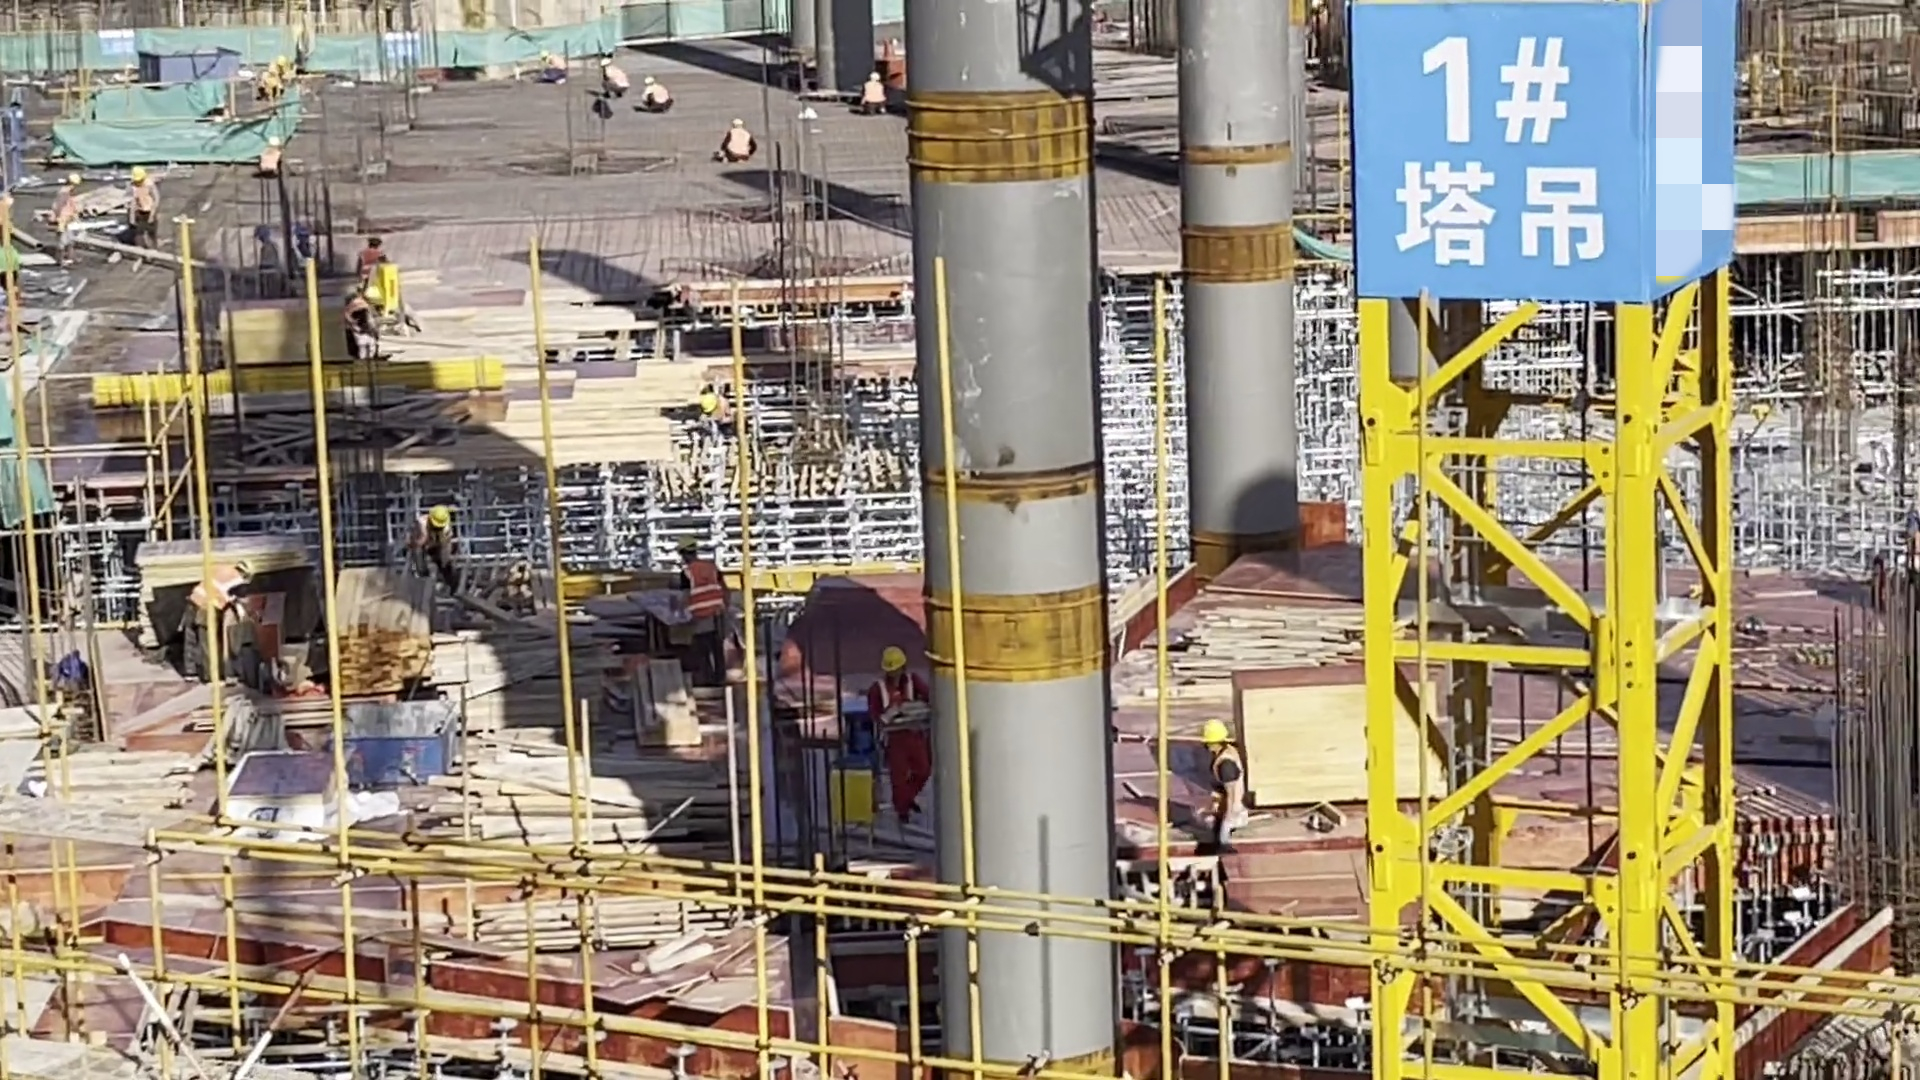helmet: (1197, 719, 1234, 758), (880, 641, 911, 679), (426, 506, 453, 534), (129, 161, 152, 191), (675, 533, 700, 558), (699, 391, 724, 416), (235, 557, 253, 583), (727, 113, 753, 131), (366, 231, 385, 249), (537, 48, 551, 61), (644, 77, 658, 86)
person: (663, 520, 744, 705), (869, 640, 938, 833), (175, 549, 256, 698), (1191, 704, 1252, 888), (398, 499, 468, 599), (116, 159, 168, 265), (712, 115, 766, 168), (701, 379, 738, 448), (533, 33, 575, 93), (358, 229, 388, 308), (641, 70, 680, 129), (593, 55, 629, 106), (859, 74, 898, 118)
vest: (871, 676, 926, 737), (1211, 746, 1250, 824), (678, 562, 724, 619), (189, 567, 243, 613), (408, 513, 453, 555), (722, 127, 753, 162), (131, 177, 155, 215), (862, 81, 887, 107)
